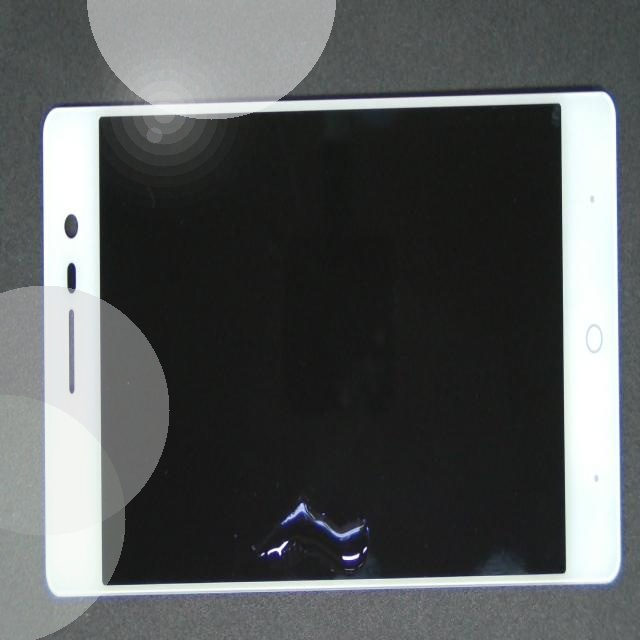oil: (131, 281, 496, 640)
